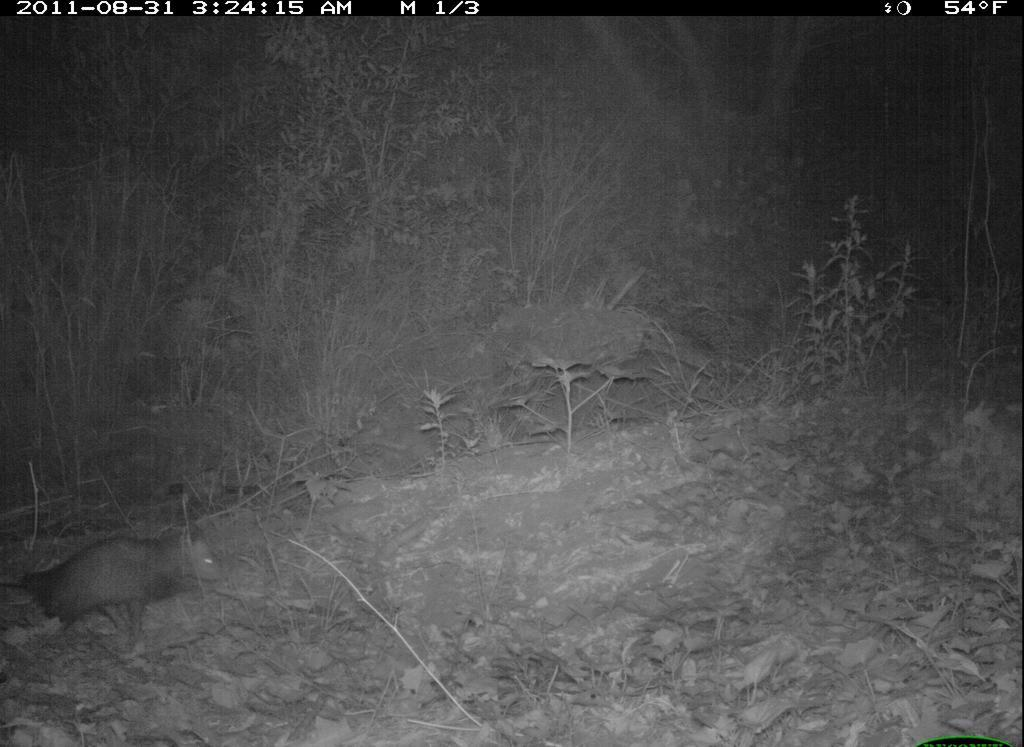opossum: (1, 523, 228, 641)
